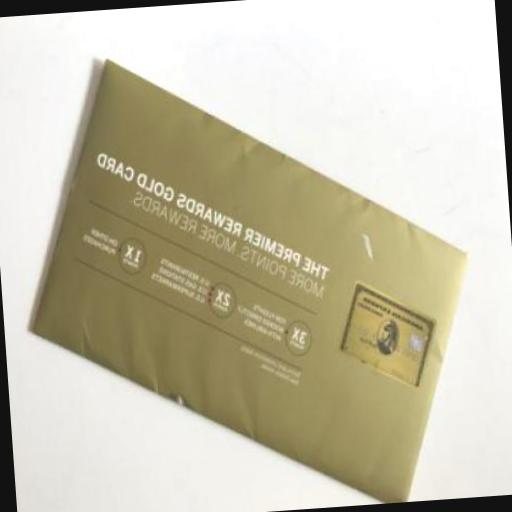paper: (15, 33, 484, 512)
